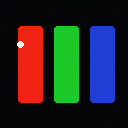0 point: (17, 41, 23, 47)
